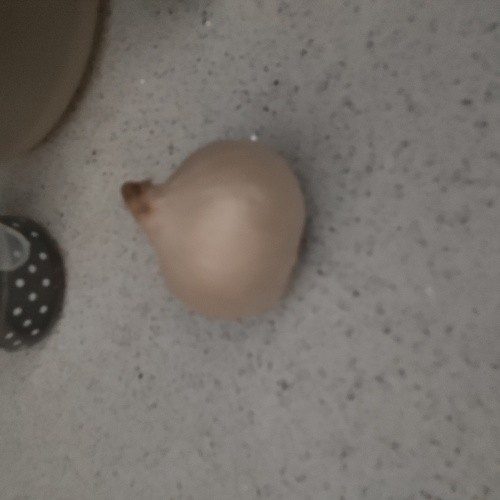cipolla: (113, 131, 325, 327)
